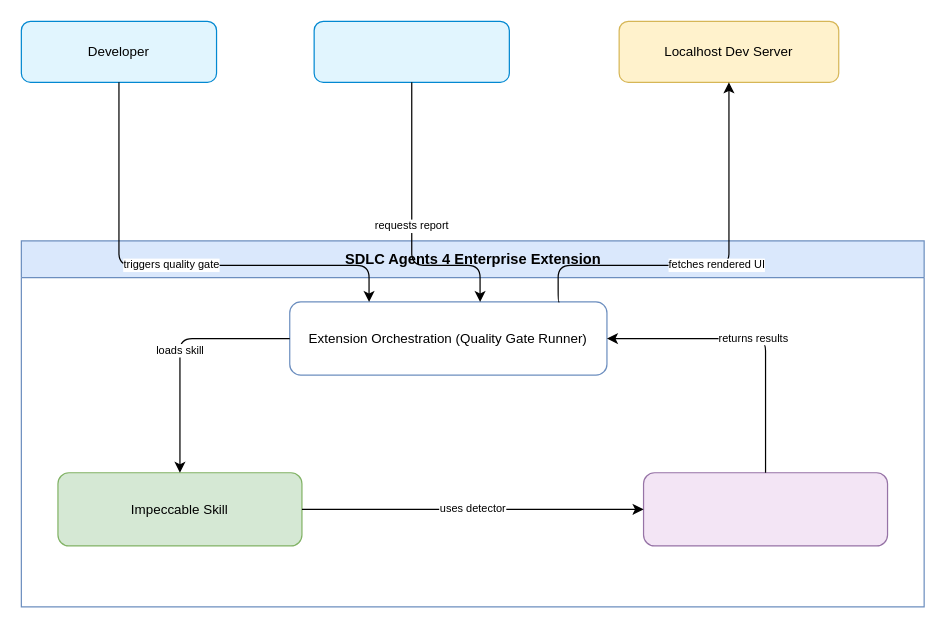
Some shapes in this 946 by 628 pixel diagram are drawn without their labels. Each missing label, with the centre of its shape:
"QA Engineer" belongs at [411,51].
"WASM Detector" belongs at [765,509].
